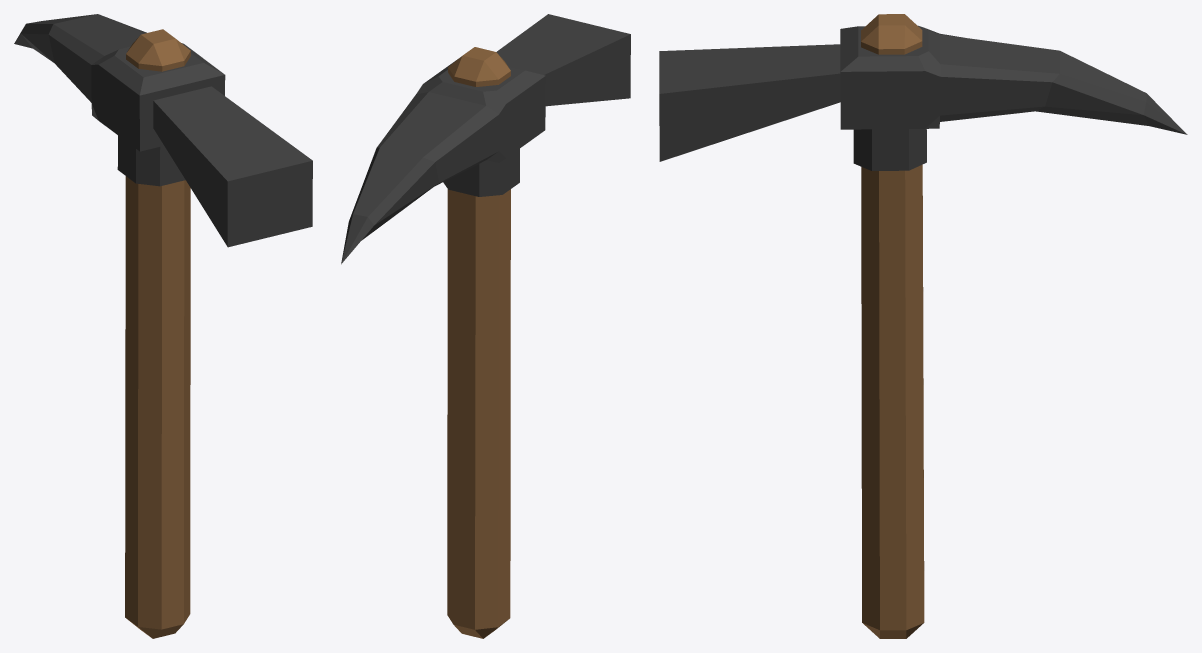
File: MetelPickAxe.fbx
The picture shows the model from 3 angles, left to right: view 1: azimuth 30°, elevation 25°; view 2: azimuth 150°, elevation 25°; view 3: azimuth 270°, elevation 25°; orthographic projection. The views are drawn at different scales.
Visible parts, largest first — view 1: metelPickAxe; view 2: metelPickAxe; view 3: metelPickAxe.
Part boxes in pixels (x1,y1,x2,y2): metelPickAxe: (14, 14, 312, 638); metelPickAxe: (341, 14, 630, 638); metelPickAxe: (659, 14, 1187, 638).
Size of the model in its own units: 15.8 by 105 by 82.04.
